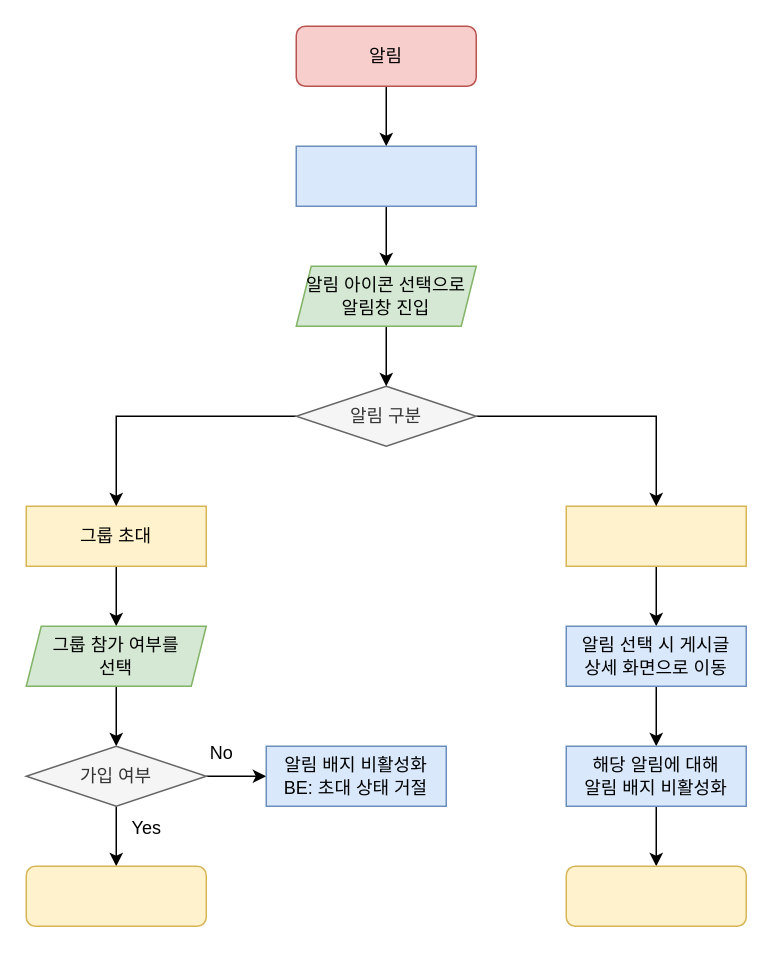
Image size: 773x953. Some labels were removed from this diagram. Here are the shapes that lost their labels. From the top down, the box of each, then its label:
(295, 145, 476, 206): 새로운 알림이 있을 때 알림 배지 생성
(565, 505, 746, 566): 새로운 그룹 게시글
(25, 865, 206, 926): 그룹 가입 완료 BE: 초대 상태 가입
(565, 865, 746, 926): 그룹 게시글 확인 완료
